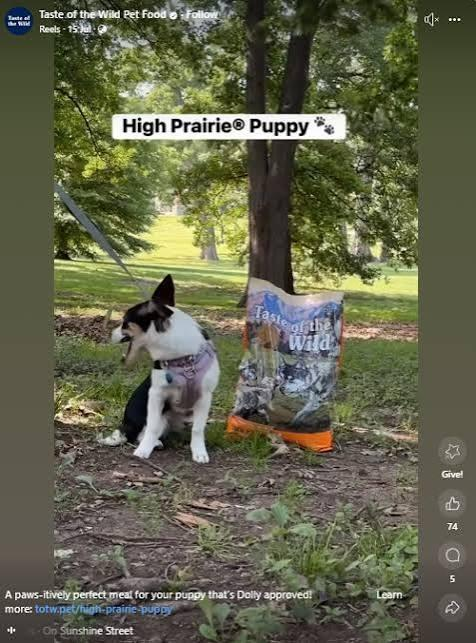puppy-dog: (104, 275, 220, 464)
